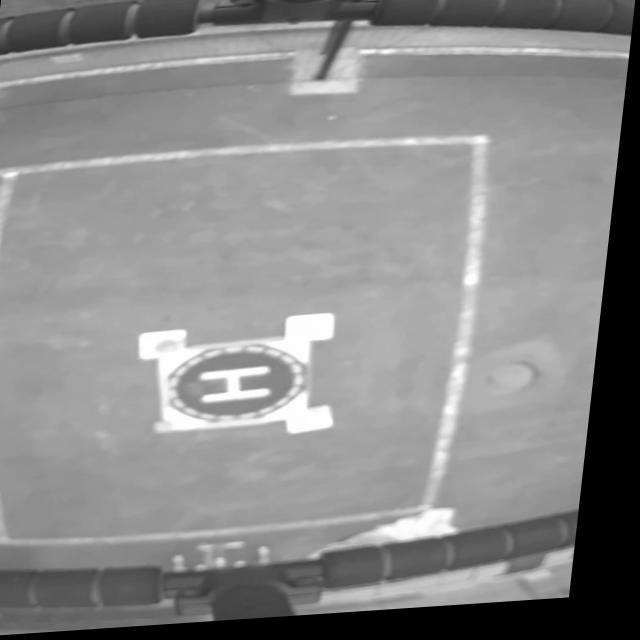Helipad: (209, 370, 280, 407)
